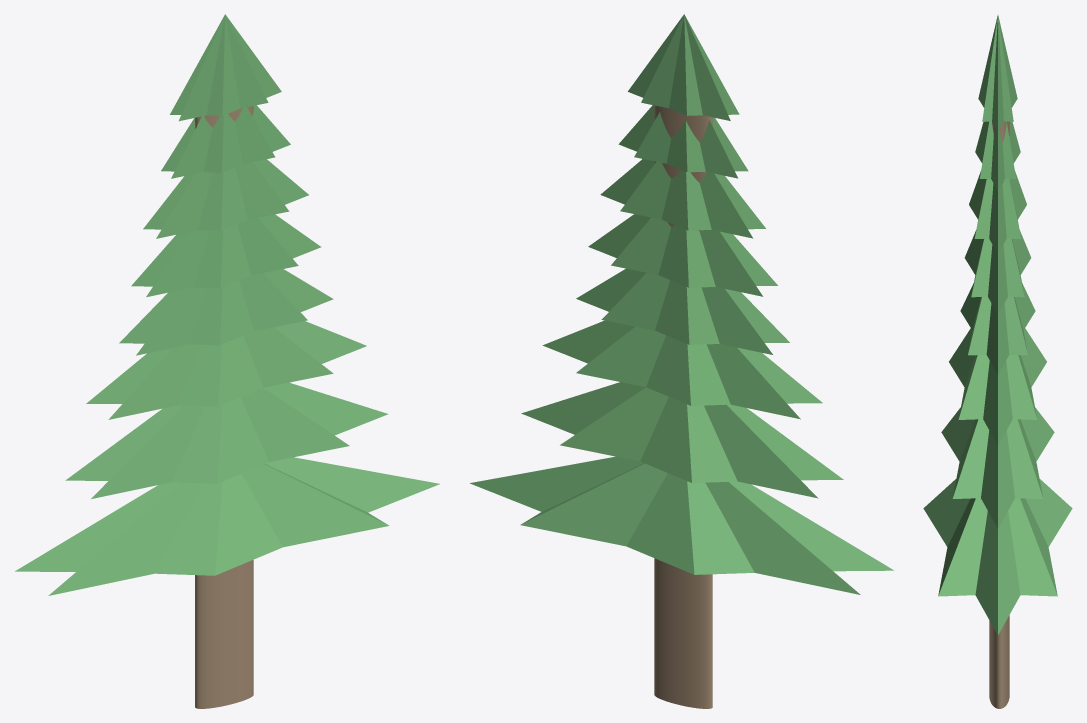
File: Daring Uusam-Tumelo.glb
The picture shows the model from 3 angles, left to right: view 1: azimuth 30°, elevation 25°; view 2: azimuth 150°, elevation 25°; view 3: azimuth 270°, elevation 25°; orthographic projection.
Parts seen in each view (by area): view 1: Mesh_Mesh_head_geo.001_lambert2SG.001; view 2: Mesh_Mesh_head_geo.001_lambert2SG.001; view 3: Mesh_Mesh_head_geo.001_lambert2SG.001.
Boxes of the visible parts, <box> form: Mesh_Mesh_head_geo.001_lambert2SG.001: <box>15,14,439,708</box>; Mesh_Mesh_head_geo.001_lambert2SG.001: <box>470,14,893,708</box>; Mesh_Mesh_head_geo.001_lambert2SG.001: <box>923,15,1072,708</box>.
Bounding box in the file's own units: 0.091 × 0.146 × 0.029.
